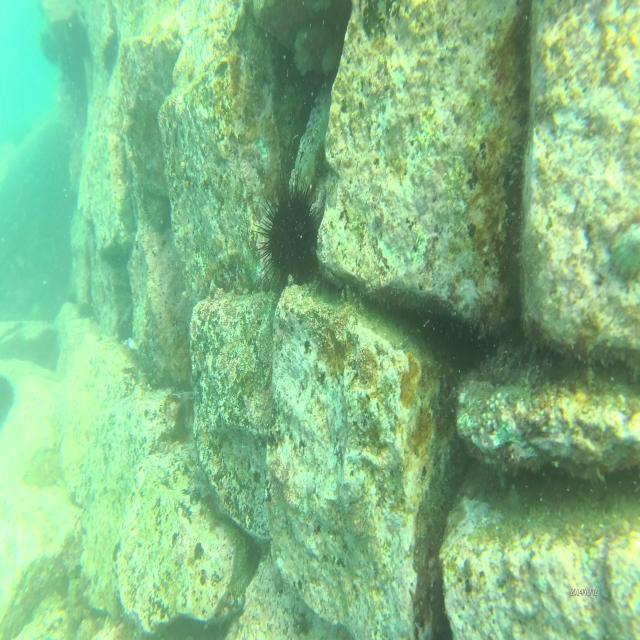echinus: (258, 170, 326, 286), (142, 192, 174, 236)
scallop: (610, 214, 640, 281)
